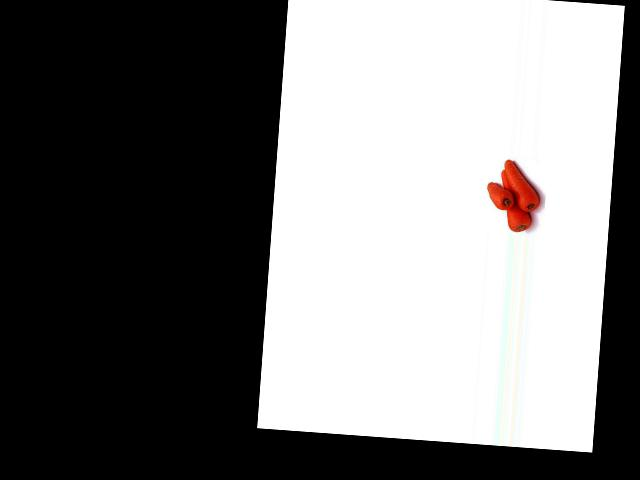carrot: (497, 168, 536, 232)
